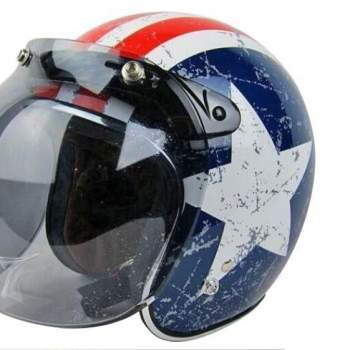with_helmet: (2, 11, 315, 343)
